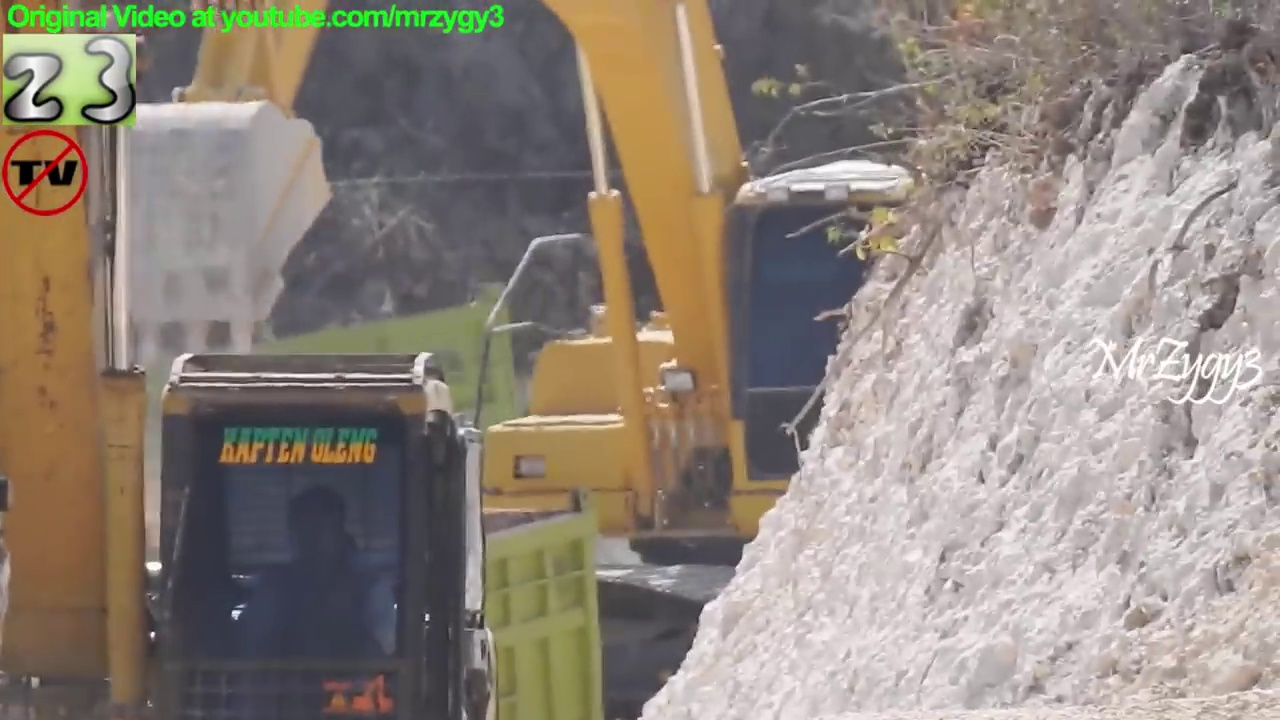excavator: (52, 1, 1022, 720), (1, 1, 537, 720)
truck: (1, 479, 606, 720), (1, 274, 537, 528)
